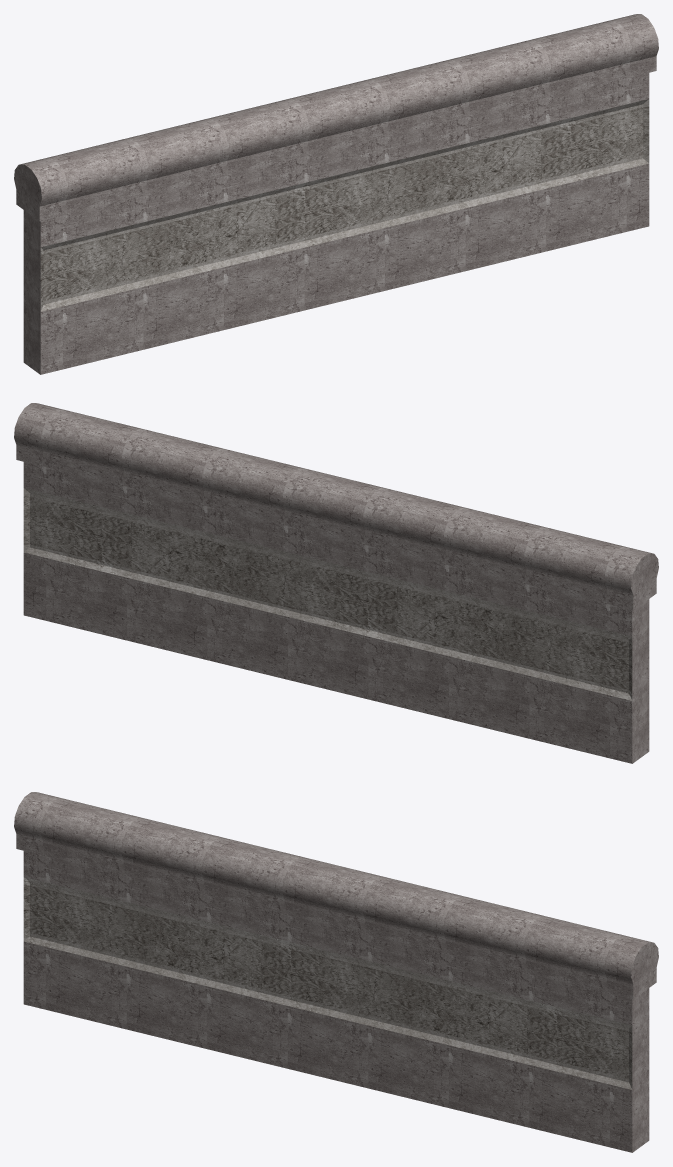
Rendered from concrete wall 3.FBX.
3 renders of one model, top to bottom at view 1: azimuth 30°, elevation 25°; view 2: azimuth 150°, elevation 25°; view 3: azimuth 330°, elevation 25°, orthographic.
Parts seen in each view (by area): view 1: Cylinder002, Object002; view 2: Cylinder002, Object002; view 3: Cylinder002, Object002.
Part boxes in pixels (x1=…): Cylinder002: x1=14, y1=14, x2=658, y2=374; Object002: x1=40, y1=99, x2=649, y2=311; Cylinder002: x1=14, y1=403, x2=658, y2=763; Object002: x1=23, y1=488, x2=632, y2=700; Cylinder002: x1=14, y1=792, x2=658, y2=1152; Object002: x1=23, y1=877, x2=632, y2=1089.
Bounding box in the file's own units: 110 × 34.46 × 8.6.
